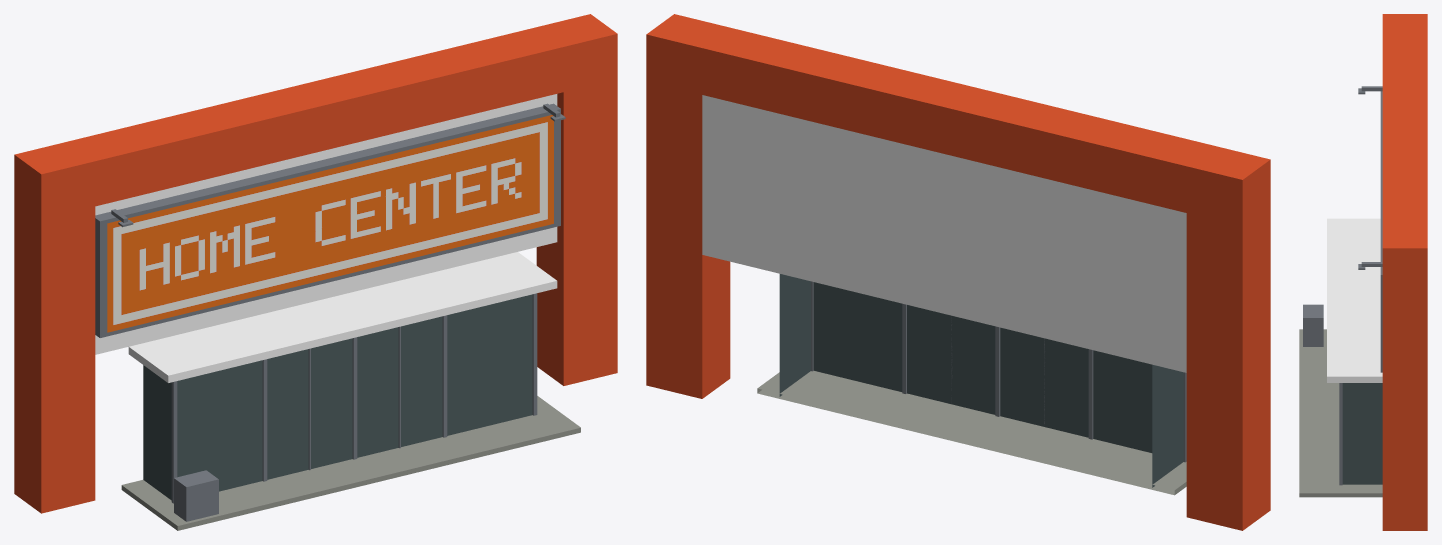
The model's file is entrance_close.fbx.
The picture shows the model from 3 angles, left to right: view 1: azimuth 30°, elevation 25°; view 2: azimuth 150°, elevation 25°; view 3: azimuth 270°, elevation 25°; orthographic projection. The views are drawn at different scales.
Visible parts, largest first — view 1: a2008/0/entrance_close; view 2: a2008/0/entrance_close; view 3: a2008/0/entrance_close.
Boxes of the visible parts, x1=… form: a2008/0/entrance_close: x1=14, y1=14, x2=617, y2=530; a2008/0/entrance_close: x1=646, y1=14, x2=1270, y2=530; a2008/0/entrance_close: x1=1299, y1=14, x2=1427, y2=530.
Bounding box in the file's own units: 16 × 9.05 × 3.7.
